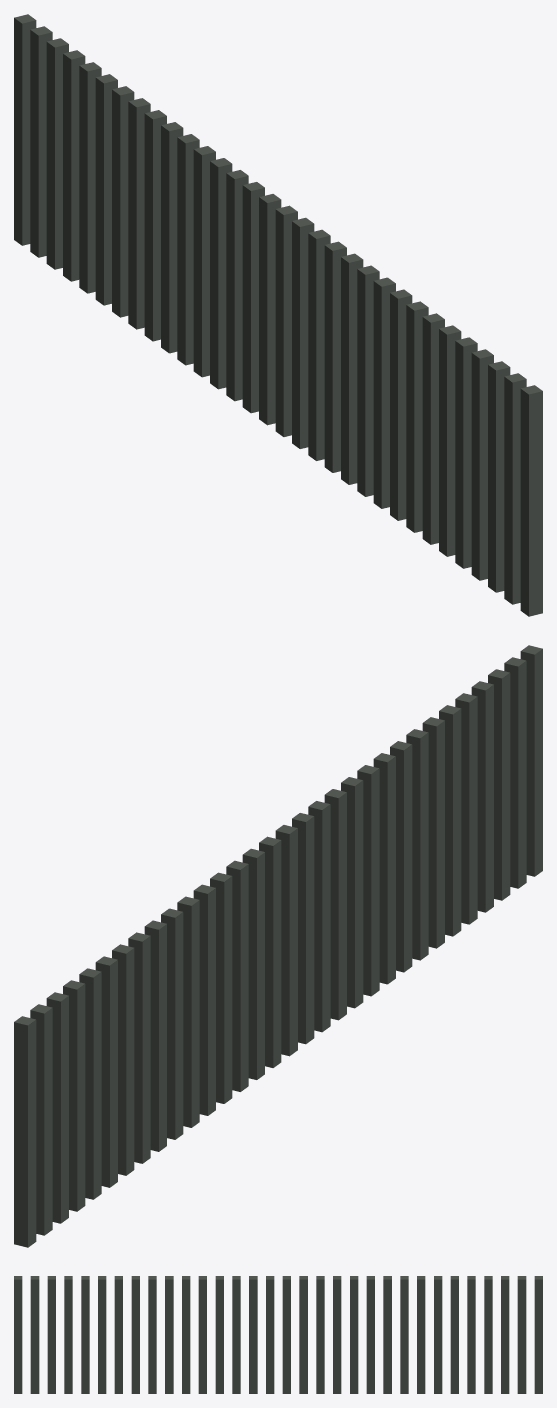
File: Escenario 3 chocorramosurvivor-1.obj
3 renders of one model, top to bottom at view 1: azimuth 30°, elevation 25°; view 2: azimuth 150°, elevation 25°; view 3: azimuth 270°, elevation 25°, orthographic. The views are drawn at different scales.
Parts seen in each view (by area): view 1: Escenario_3_chocorramosurvivor-1_Escenario_3_chocorramosurvivor-; view 2: Escenario_3_chocorramosurvivor-1_Escenario_3_chocorramosurvivor-; view 3: Escenario_3_chocorramosurvivor-1_Escenario_3_chocorramosurvivor-.
Part boxes in pixels (bbox=[...]): Escenario_3_chocorramosurvivor-1_Escenario_3_chocorramosurvivor-: bbox=[14, 14, 542, 616]; Escenario_3_chocorramosurvivor-1_Escenario_3_chocorramosurvivor-: bbox=[14, 645, 542, 1247]; Escenario_3_chocorramosurvivor-1_Escenario_3_chocorramosurvivor-: bbox=[14, 1276, 542, 1393].
Size of the model in its own units: 0.2 by 3 by 12.6.
Materials: 1 (1 with a texture image).
